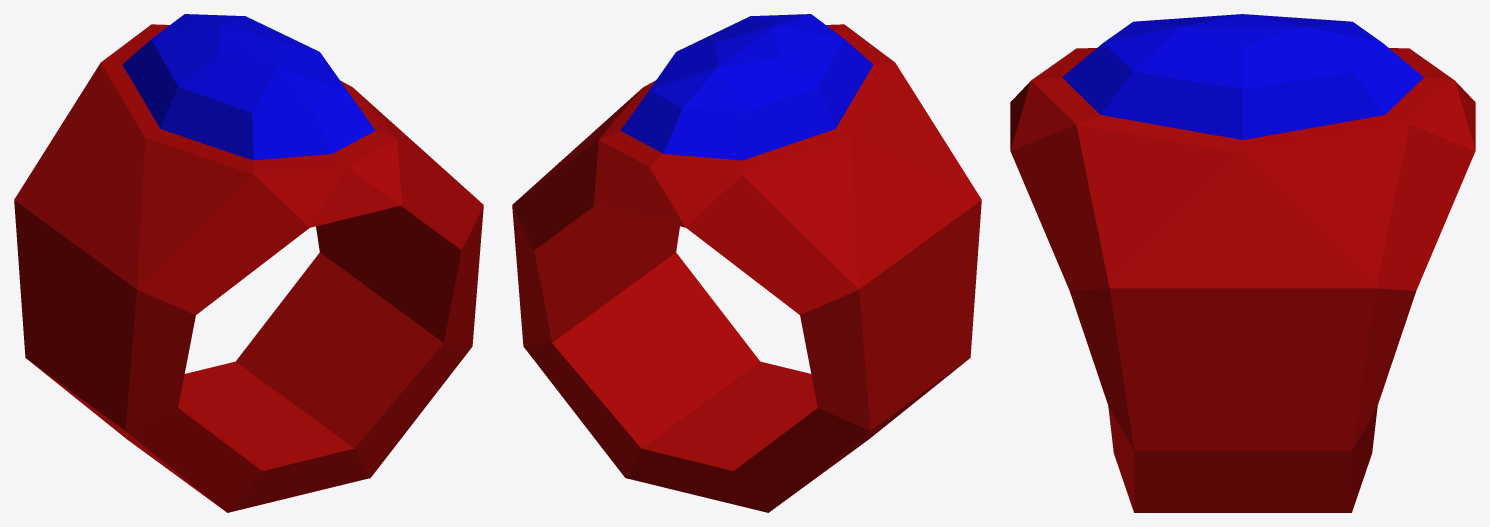
File: Ring_06.fbx
The picture shows the model from 3 angles, left to right: view 1: azimuth 30°, elevation 25°; view 2: azimuth 150°, elevation 25°; view 3: azimuth 270°, elevation 25°; orthographic projection. The views are drawn at different scales.
Visible parts, largest first — view 1: SM_Item_Ring_06; view 2: SM_Item_Ring_06; view 3: SM_Item_Ring_06.
Part boxes in pixels (bbox=[...]): SM_Item_Ring_06: bbox=[14, 14, 483, 512]; SM_Item_Ring_06: bbox=[512, 14, 981, 512]; SM_Item_Ring_06: bbox=[1010, 14, 1475, 512].
Size of the model in its own units: 5.07 by 5.76 by 5.42.
